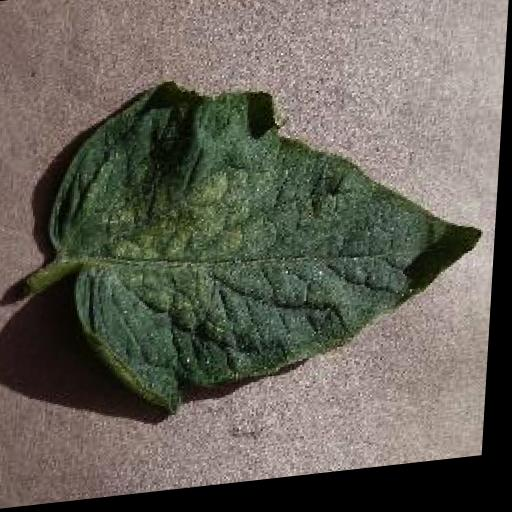Spider Mites: (38, 54, 498, 430)
